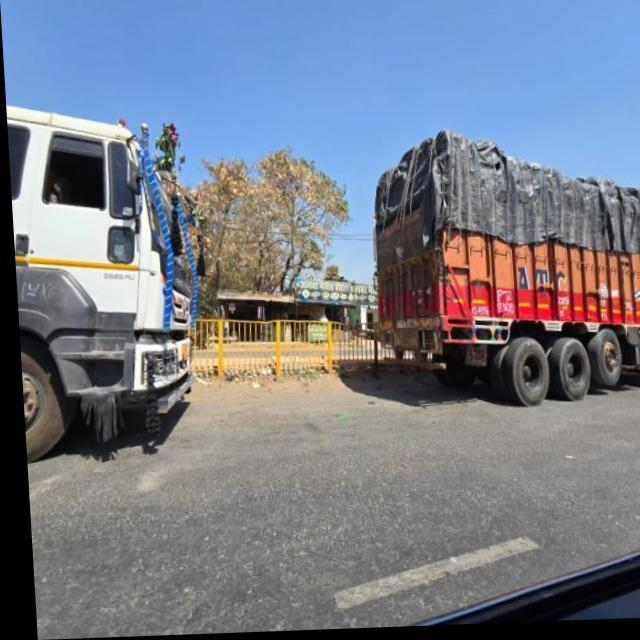covered: (367, 132, 640, 410)
